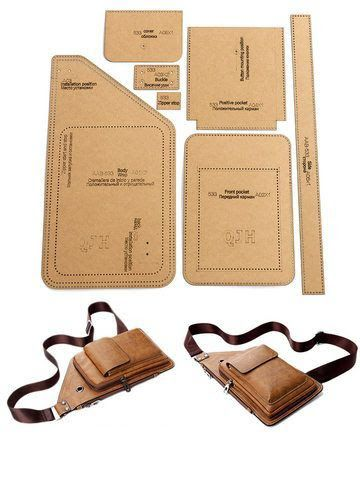cuero: (7, 302, 358, 426)
